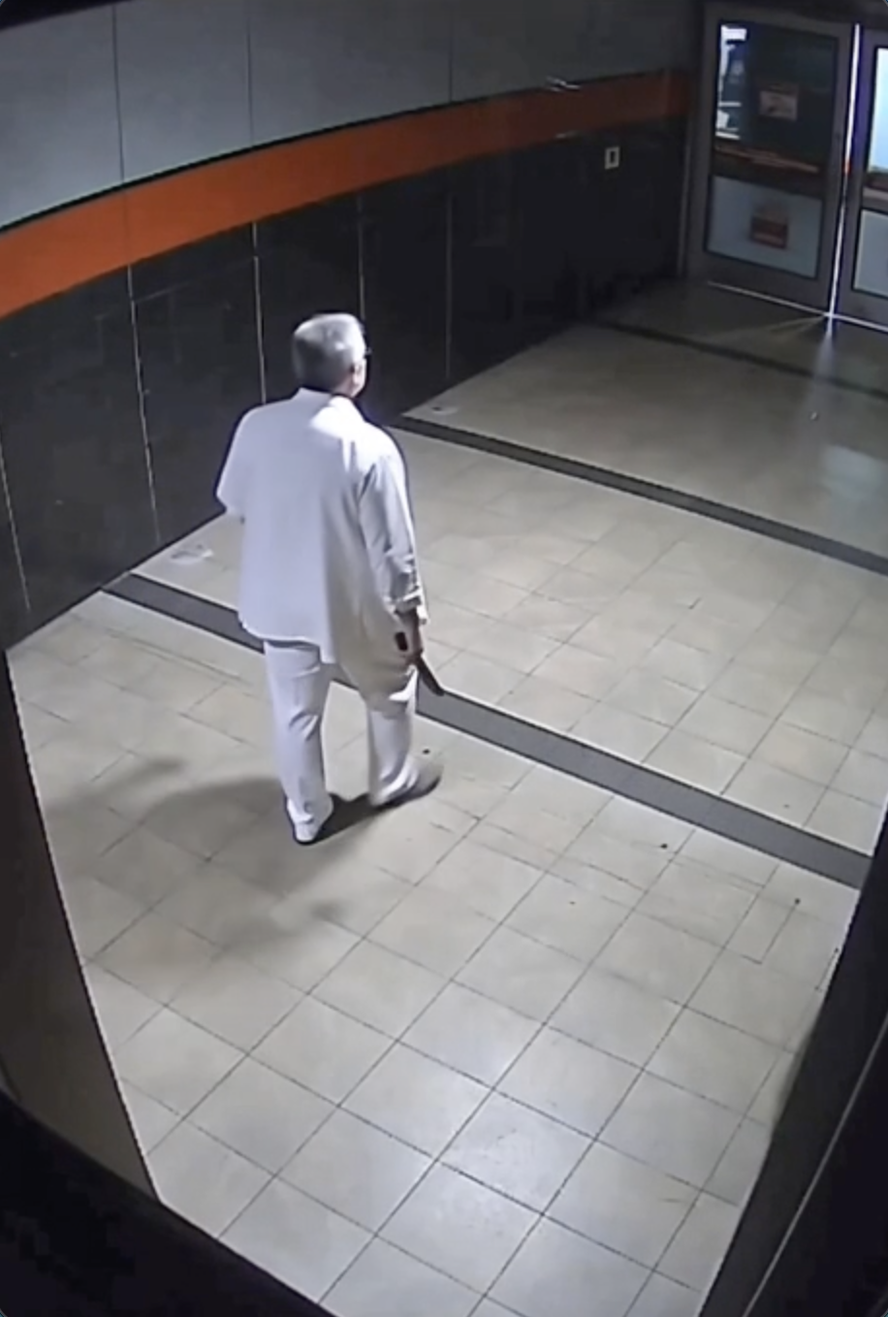Heavy Gun: (211, 298, 451, 850)
Knife: (392, 621, 449, 703)
